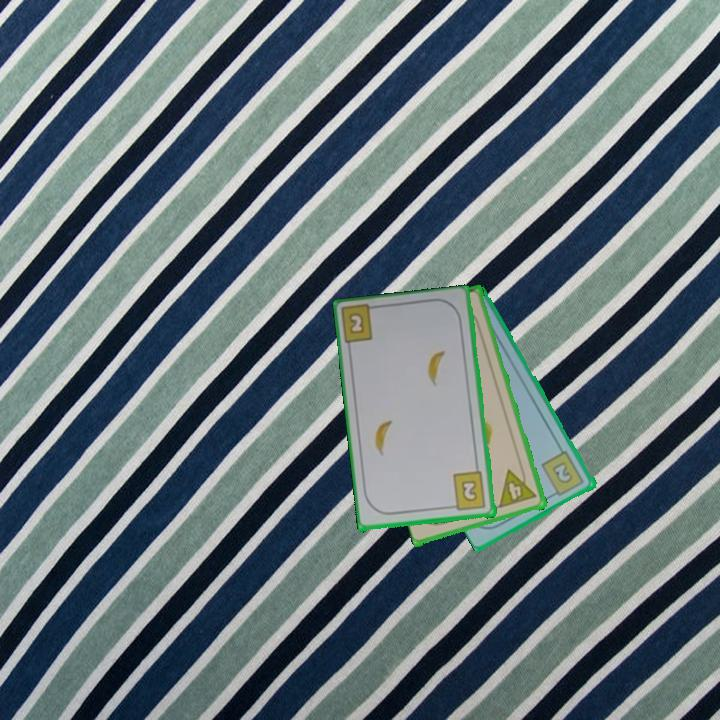2b: (538, 448, 587, 500), (447, 469, 489, 513), (346, 311, 367, 337)
4p: (496, 464, 540, 510)
